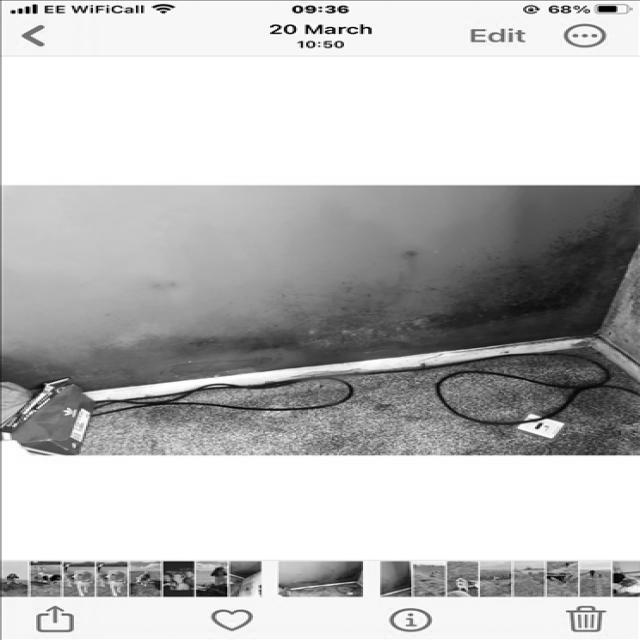stain marks: (0, 188, 640, 392)
